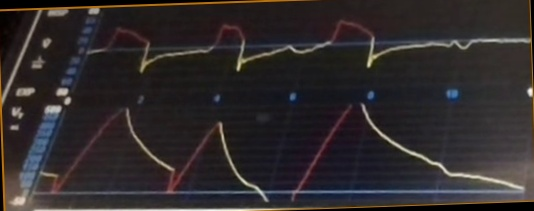Ineffective_effort Flow: (88, 14, 530, 77)
Ineffective_effort Volume: (42, 103, 523, 203)
